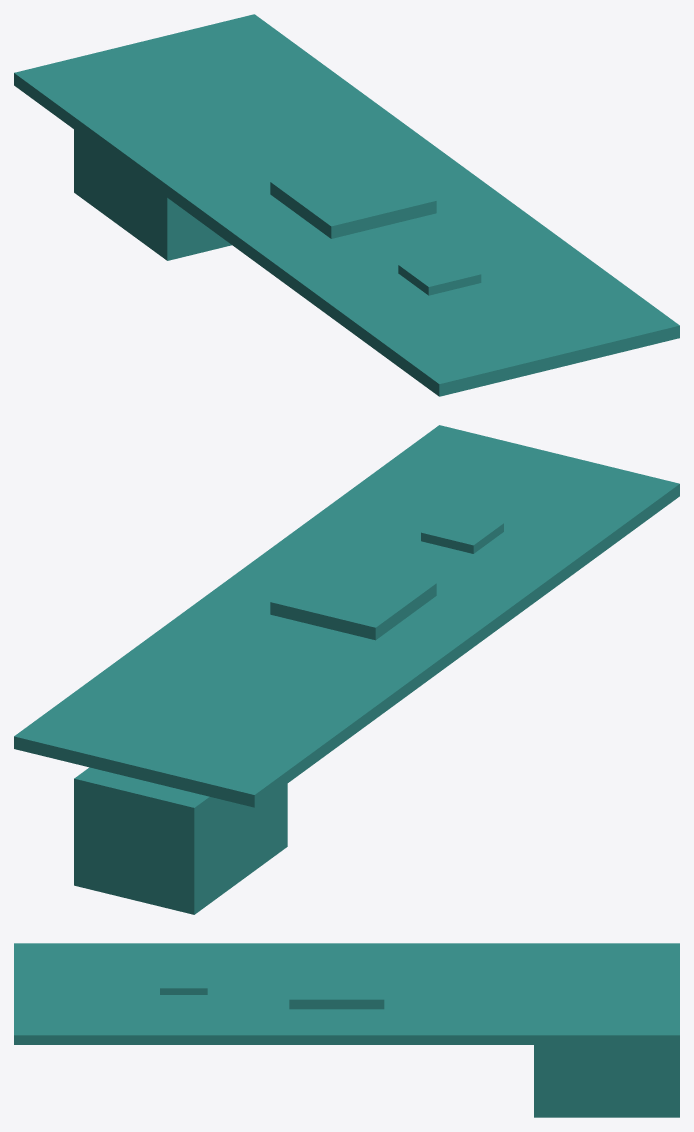
Rendered from IU-MIC_ORIGIN_main_pcb.glb.
3 views of the same model, one above another, from view 1: azimuth 30°, elevation 25°; view 2: azimuth 150°, elevation 25°; view 3: azimuth 270°, elevation 25° (orthographic). The views are drawn at different scales.
Visible parts, largest first — view 1: IU-MIC_ORIGIN_main_pcb.stl; view 2: IU-MIC_ORIGIN_main_pcb.stl; view 3: IU-MIC_ORIGIN_main_pcb.stl.
Part boxes in pixels (x1,y1,x2,y2): IU-MIC_ORIGIN_main_pcb.stl: [14, 14, 679, 396]; IU-MIC_ORIGIN_main_pcb.stl: [14, 425, 679, 914]; IU-MIC_ORIGIN_main_pcb.stl: [14, 943, 679, 1117].
Bounding box in the file's own units: 32 × 18.7 × 98.
